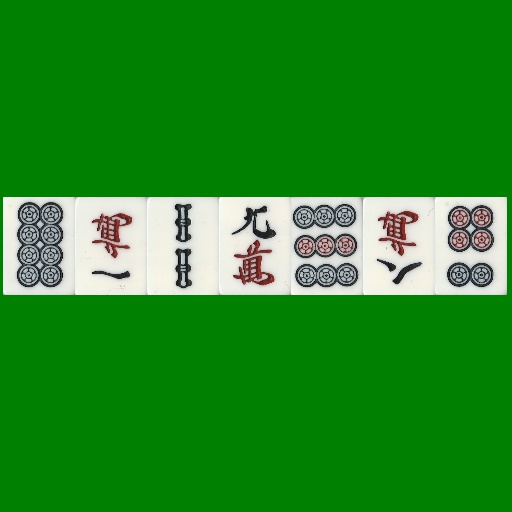1m: (75, 197, 147, 295)
2s: (147, 197, 219, 295)
6p: (435, 197, 507, 295)
8m: (363, 197, 435, 295)
8p: (3, 197, 75, 295)
9m: (219, 197, 291, 295)
9p: (291, 197, 363, 295)
